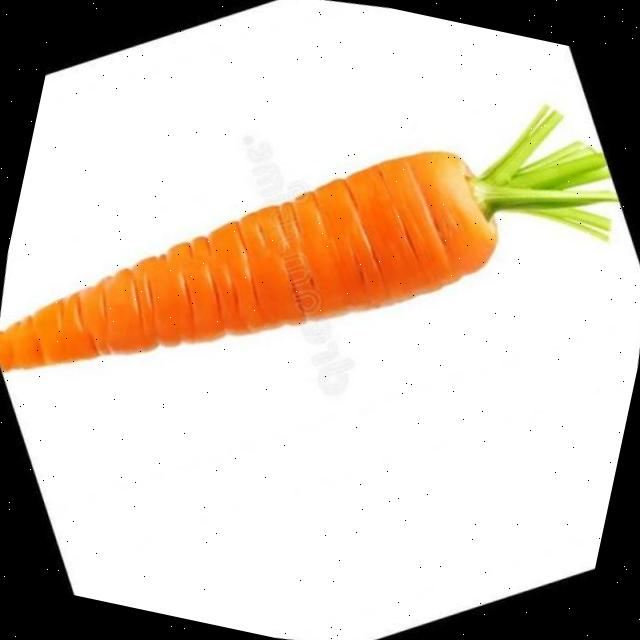carrot: (0, 106, 616, 369)
